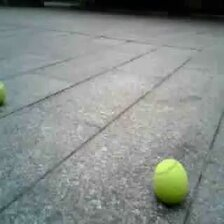tennis: (152, 160, 188, 203)
